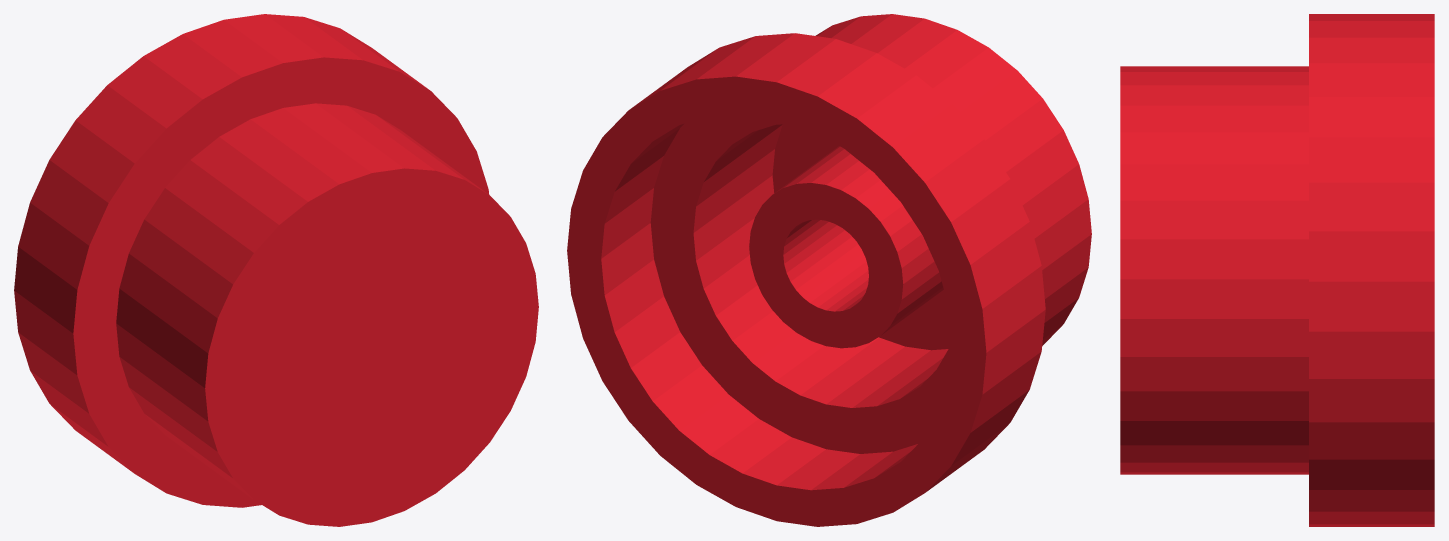
The model's file is button.obj.
3 renders of one model, left to right at view 1: azimuth 30°, elevation 25°; view 2: azimuth 150°, elevation 25°; view 3: azimuth 270°, elevation 25°, orthographic. The views are drawn at different scales.
Visible parts, largest first — view 1: obj_0; view 2: obj_0; view 3: obj_0.
Boxes of the visible parts, bbox=[...] form: obj_0: bbox=[14, 14, 538, 526]; obj_0: bbox=[567, 14, 1091, 526]; obj_0: bbox=[1120, 14, 1434, 526].
Size of the model in its own units: 24.5 by 24.5 by 15.
